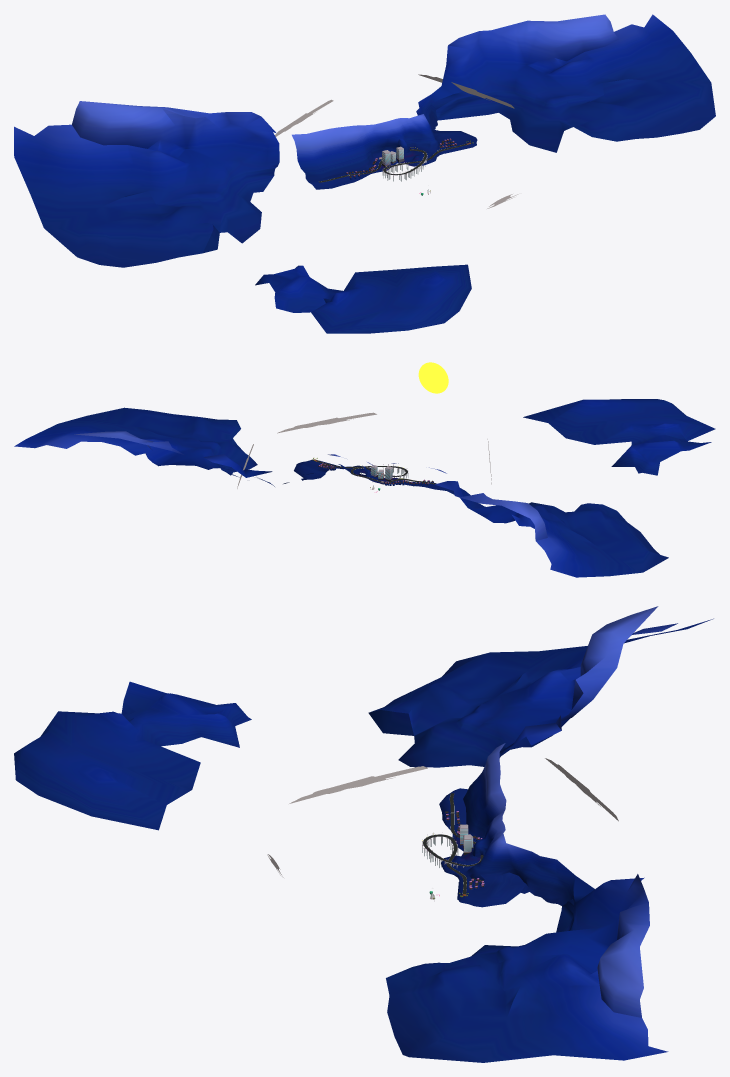
File: racing_game_track_69_beach.glb
3 views of the same model, one above another, from view 1: azimuth 30°, elevation 25°; view 2: azimuth 150°, elevation 25°; view 3: azimuth 270°, elevation 25° (orthographic). The views are drawn at different scales.
Visible parts, largest first — view 1: landmass above water, cloud; view 2: landmass above water, the sun, cloud; view 3: landmass above water, cloud.
Boxes of the visible parts, bbox=[...] form: landmass above water: bbox=[14, 14, 715, 333]; cloud: bbox=[275, 74, 518, 208]; landmass above water: bbox=[14, 399, 715, 577]; the sun: bbox=[418, 362, 448, 393]; cloud: bbox=[237, 412, 491, 488]; landmass above water: bbox=[14, 606, 713, 1062]; cloud: bbox=[267, 758, 618, 877].
Bounding box in the file's own units: 4406 × 602 × 3071.
Materials: 11 (7 with a texture image).
